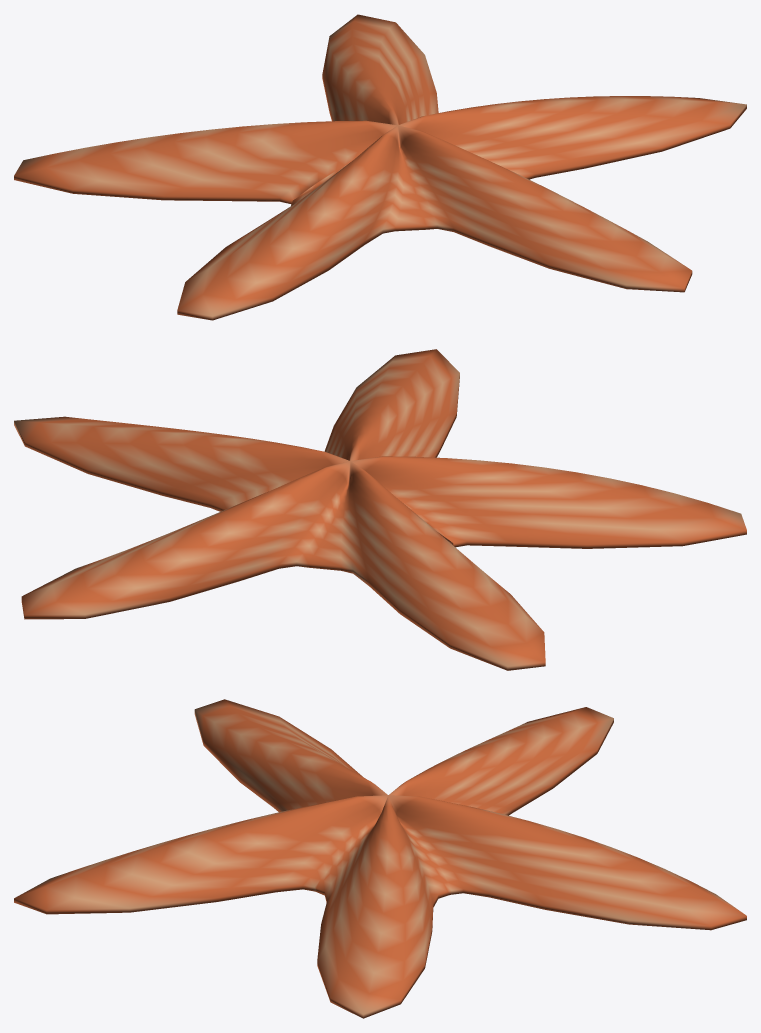
File: beach-starfish.glb
The picture shows the model from 3 angles, top to bottom: view 1: azimuth 30°, elevation 25°; view 2: azimuth 150°, elevation 25°; view 3: azimuth 270°, elevation 25°; orthographic projection. The views are drawn at different scales.
Visible parts, largest first — view 1: Beach_starfish; view 2: Beach_starfish; view 3: Beach_starfish.
Part boxes in pixels (x1,y1,x2,y2): Beach_starfish: [14, 14, 746, 320]; Beach_starfish: [14, 349, 746, 670]; Beach_starfish: [14, 699, 746, 1018].
Bounding box in the file's own units: 1 × 0.0889 × 0.9829.
